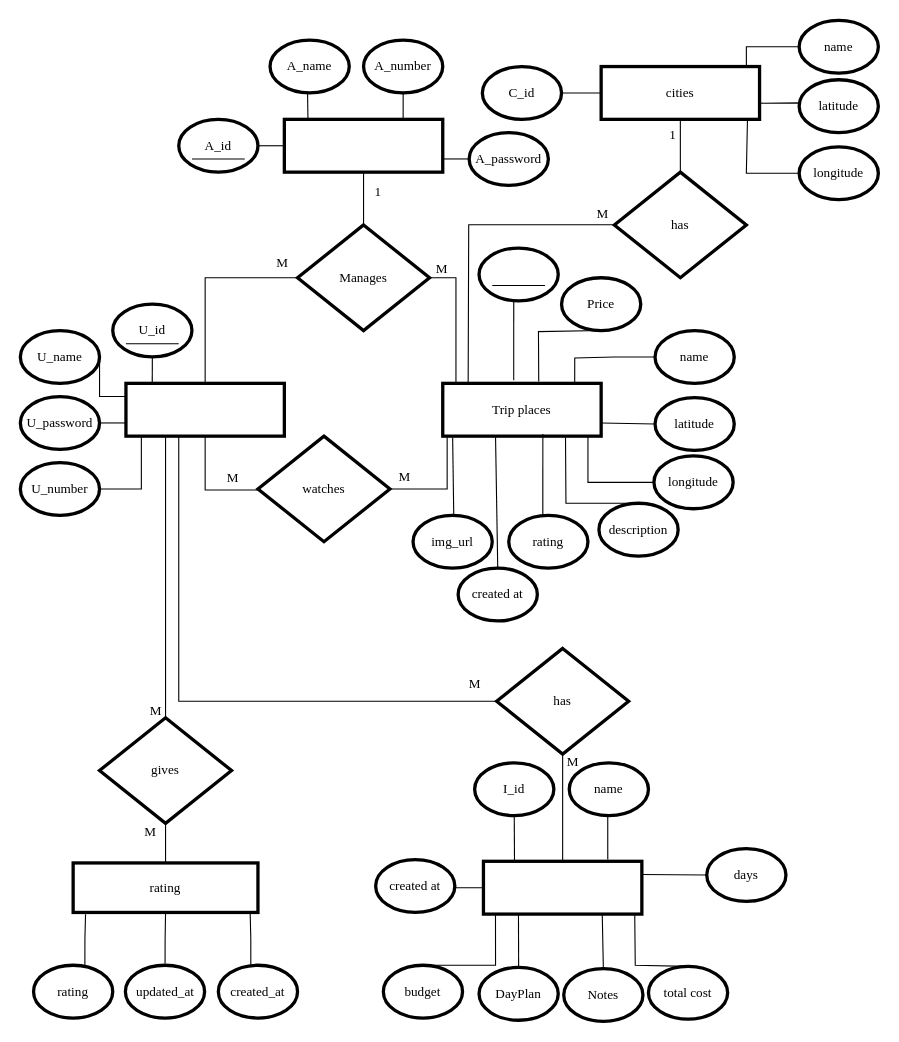
Some shapes in this 899 by 1042 pixel diagram are drawn without their labels. Each missing label, with the centre of its shape:
"Admin" belongs at (363,145).
"Itinerary" belongs at (562,887).
"p_id" belongs at (518,274).
"User" belongs at (204,409).
